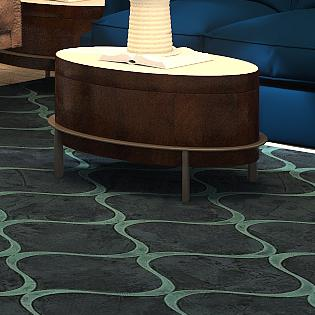table: (52, 42, 256, 191)
